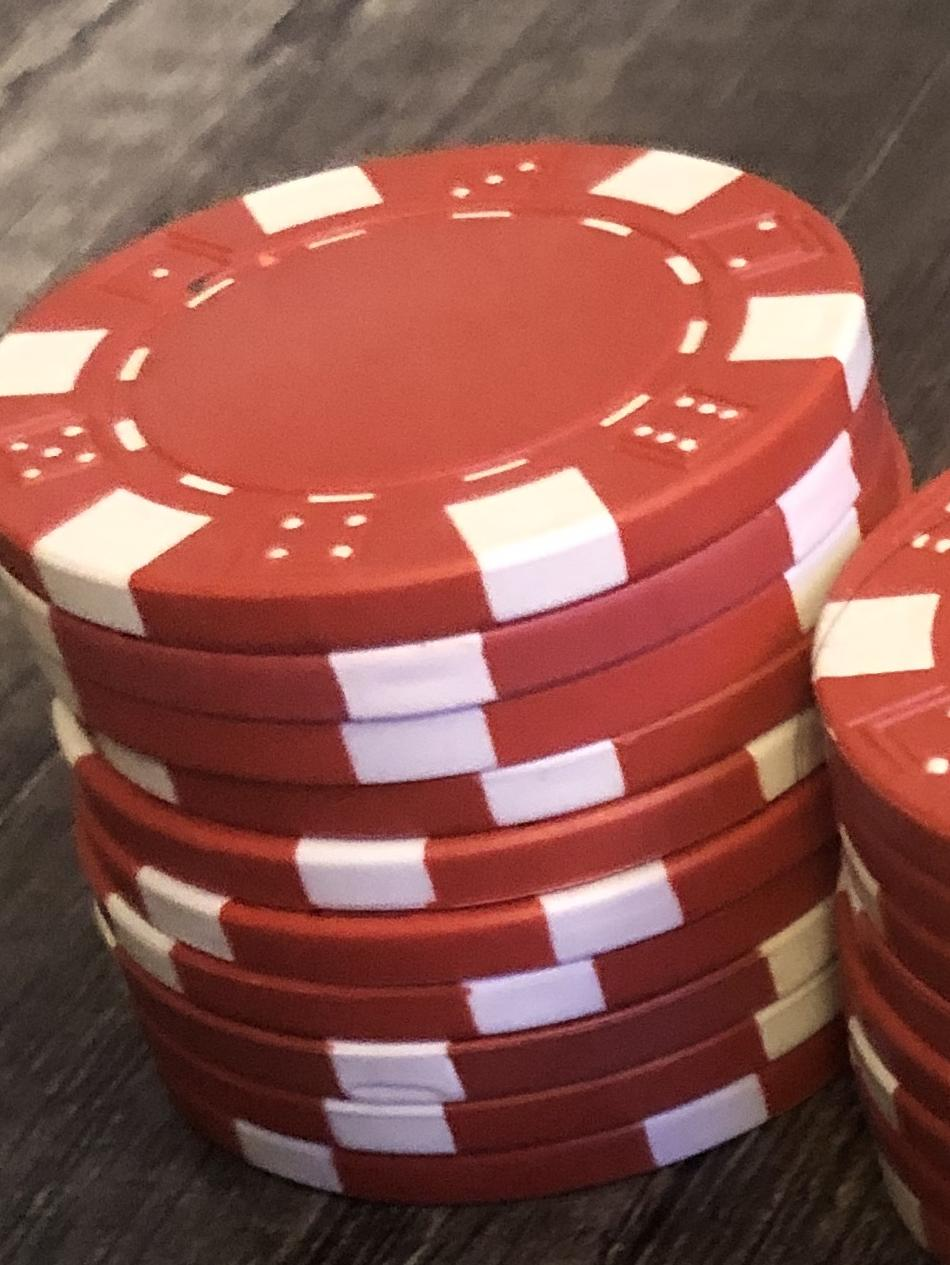Chip: (1, 1, 950, 1265)
